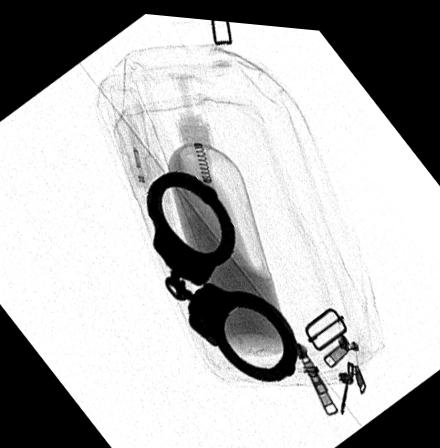HandCuffs: (145, 167, 297, 376)
